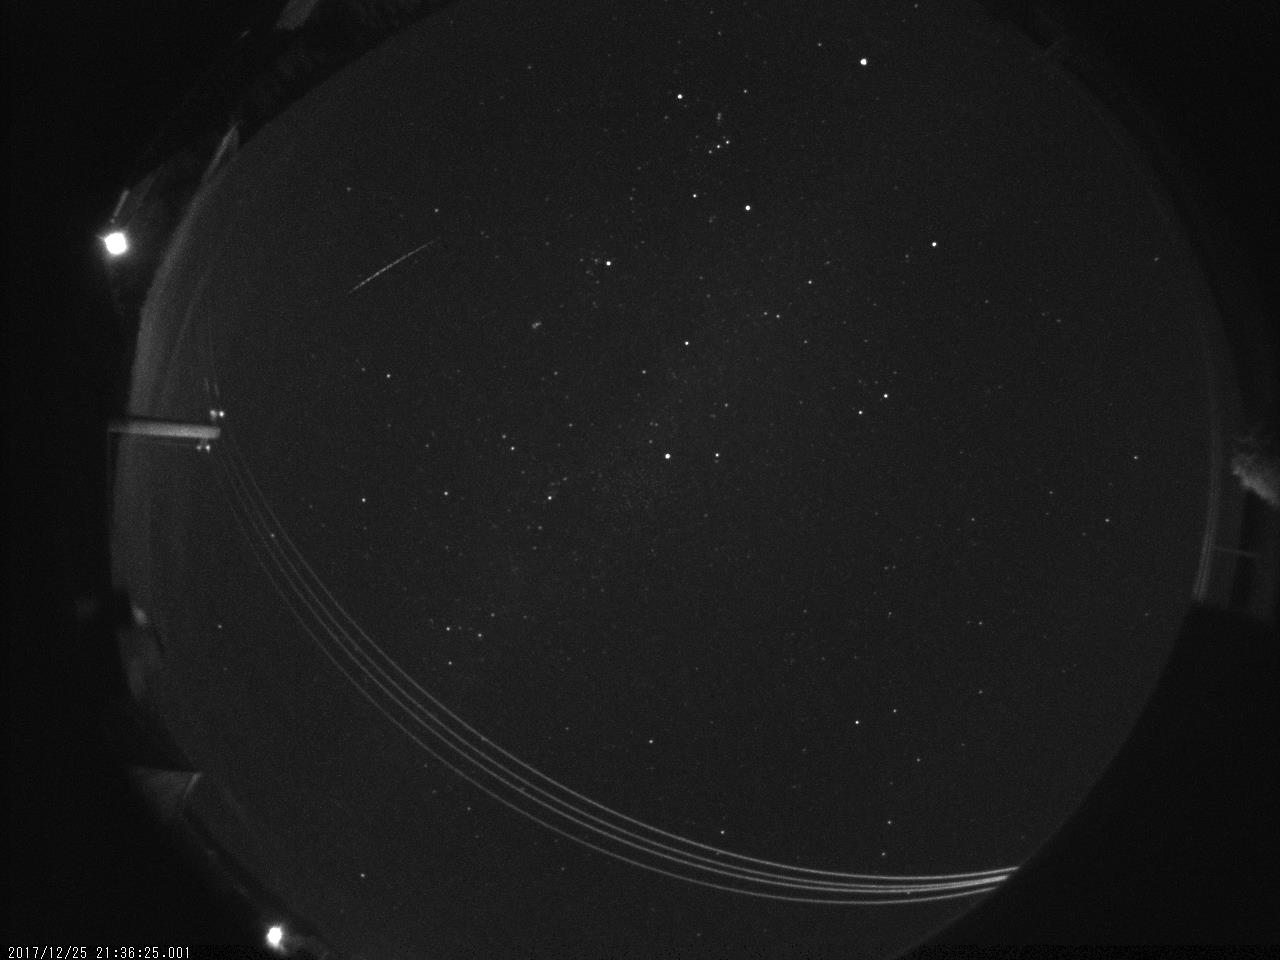meteor: (326, 216, 471, 320)
